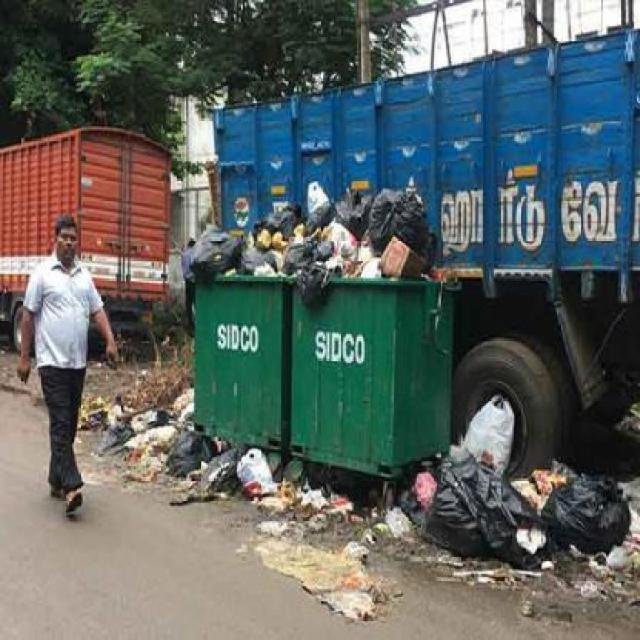garbage: (331, 392, 640, 636), (166, 188, 450, 311), (91, 391, 318, 504)
